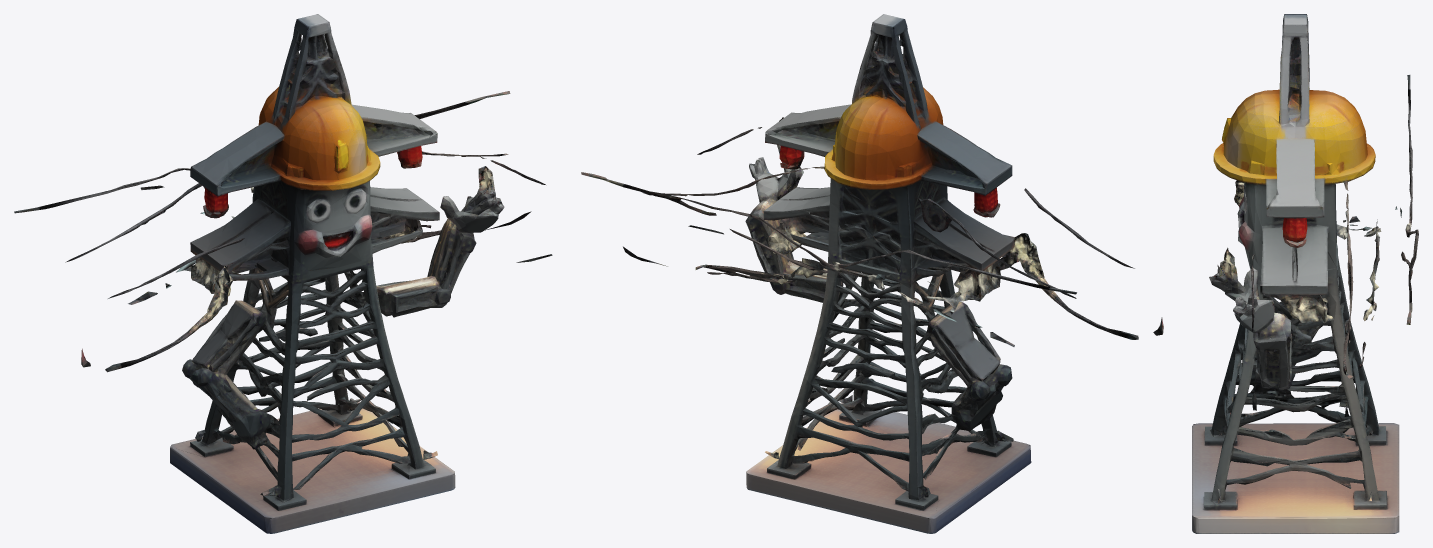
The model's file is sample.glb.
3 renders of one model, left to right at view 1: azimuth 30°, elevation 25°; view 2: azimuth 150°, elevation 25°; view 3: azimuth 270°, elevation 25°, orthographic. The views are drawn at different scales.
Parts seen in each view (by area): view 1: world; view 2: world; view 3: world.
Boxes of the visible parts, left/top/right/bottom form: world: left=14, top=14, right=552, bottom=533; world: left=581, top=14, right=1163, bottom=533; world: left=1192, top=14, right=1418, bottom=533.
Bounding box in the file's own units: 0.9985 × 0.8589 × 0.3779.
Materials: 1 (1 with a texture image).
